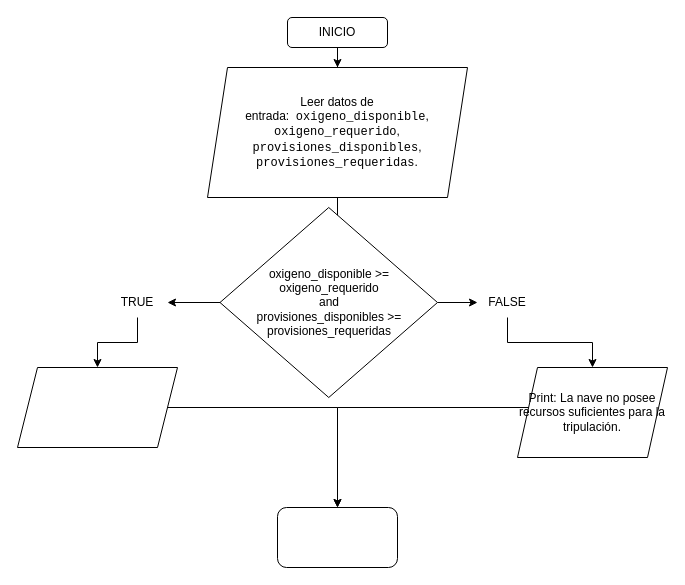
Image size: 685x585. Some labels were removed from this diagram. Here are the shapes that lost their labels. From the top down, the box of each, then its label:
(16, 366, 178, 448): Print: La nave posee recursos suficientes para la tripulación.
(276, 506, 398, 568): FIN
